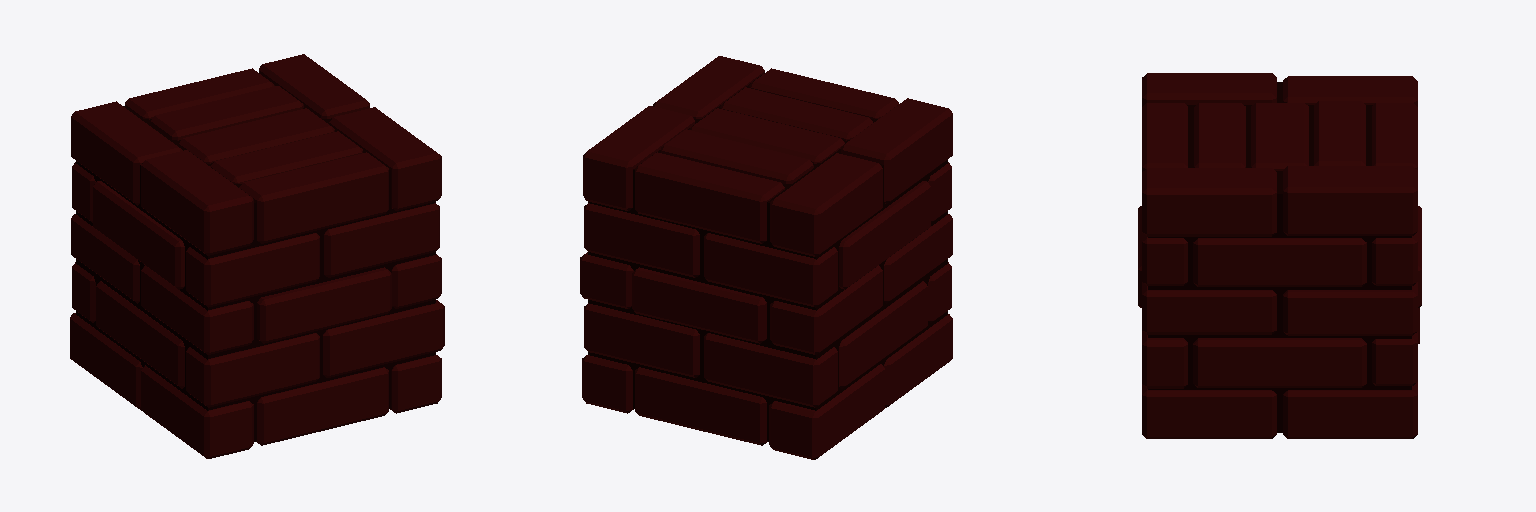
The model's file is Cube_Bricks.obj.
3 renders of one model, left to right at view 1: azimuth 30°, elevation 25°; view 2: azimuth 150°, elevation 25°; view 3: azimuth 270°, elevation 25°, orthographic.
Parts seen in each view (by area): view 1: Cube_Bricks_Cube.042; view 2: Cube_Bricks_Cube.042; view 3: Cube_Bricks_Cube.042.
Boxes of the visible parts, box(x1,y1,x2,y2) form: Cube_Bricks_Cube.042: box(70, 54, 444, 458); Cube_Bricks_Cube.042: box(580, 56, 952, 459); Cube_Bricks_Cube.042: box(1138, 73, 1421, 438).
Size of the model in its own units: 2.04 by 2.03 by 2.06.